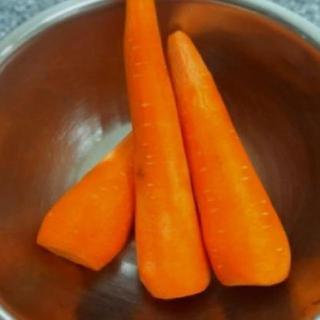carrot: (162, 24, 294, 292), (117, 3, 213, 307), (35, 124, 139, 273)
